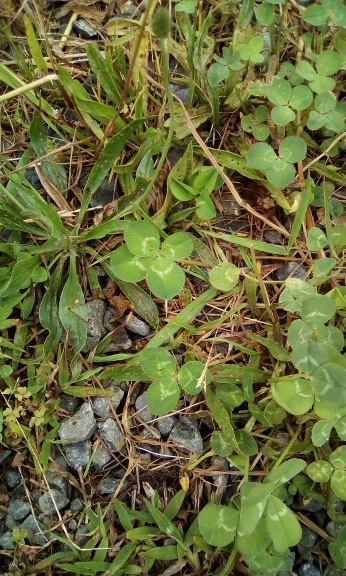4leaf: (109, 219, 195, 302)
